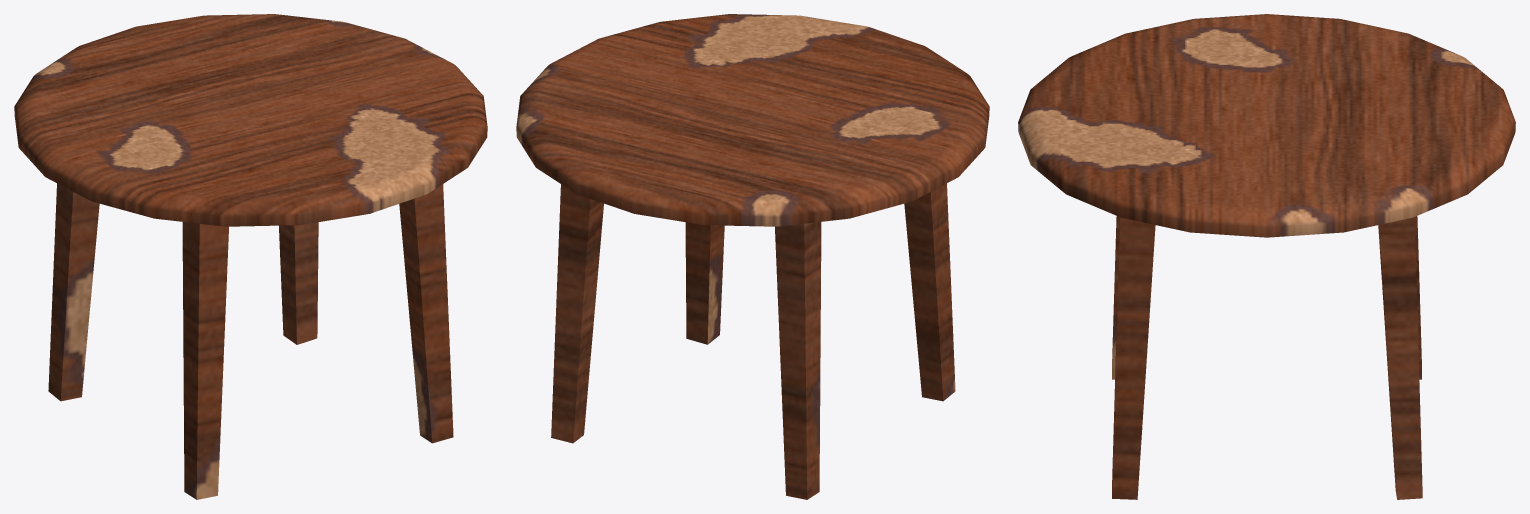
The model's file is table.glb.
The picture shows the model from 3 angles, left to right: view 1: azimuth 30°, elevation 25°; view 2: azimuth 150°, elevation 25°; view 3: azimuth 270°, elevation 25°; orthographic projection. The views are drawn at different scales.
Size of the model in its own units: 1.85 by 1.33 by 1.85.
Materials: 1 (1 with a texture image).
